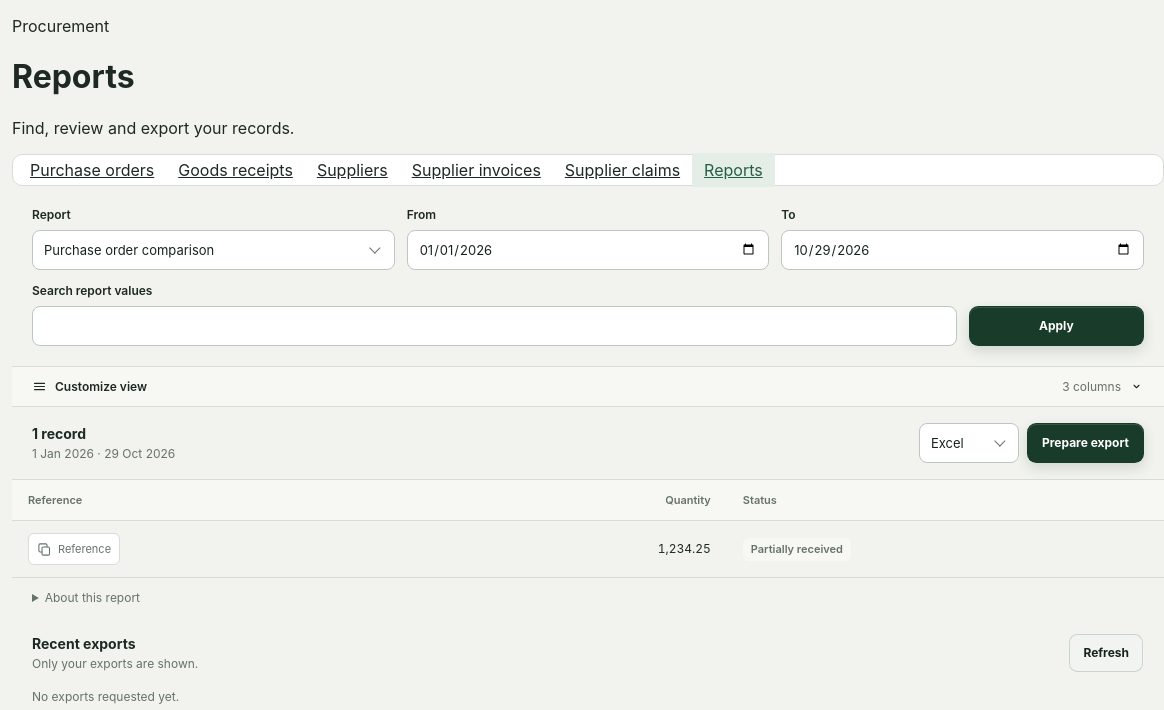
it: ERP reporting workspace › keeps UUIDs compact, copies their full value and offers a fallback on failure
The width and height of the screenshot is (1164, 710).
Expected: the text "98765432-1234-4567-89ab-123456789abc" is not shown
Expected: the text "1,234.25" is shown, [658, 541, 711, 556]
What coordinates should you click on to do the following:
click the button with aria-label "Copy reference"
I would click on:
 (74, 549)
Its box is [28, 533, 120, 565].
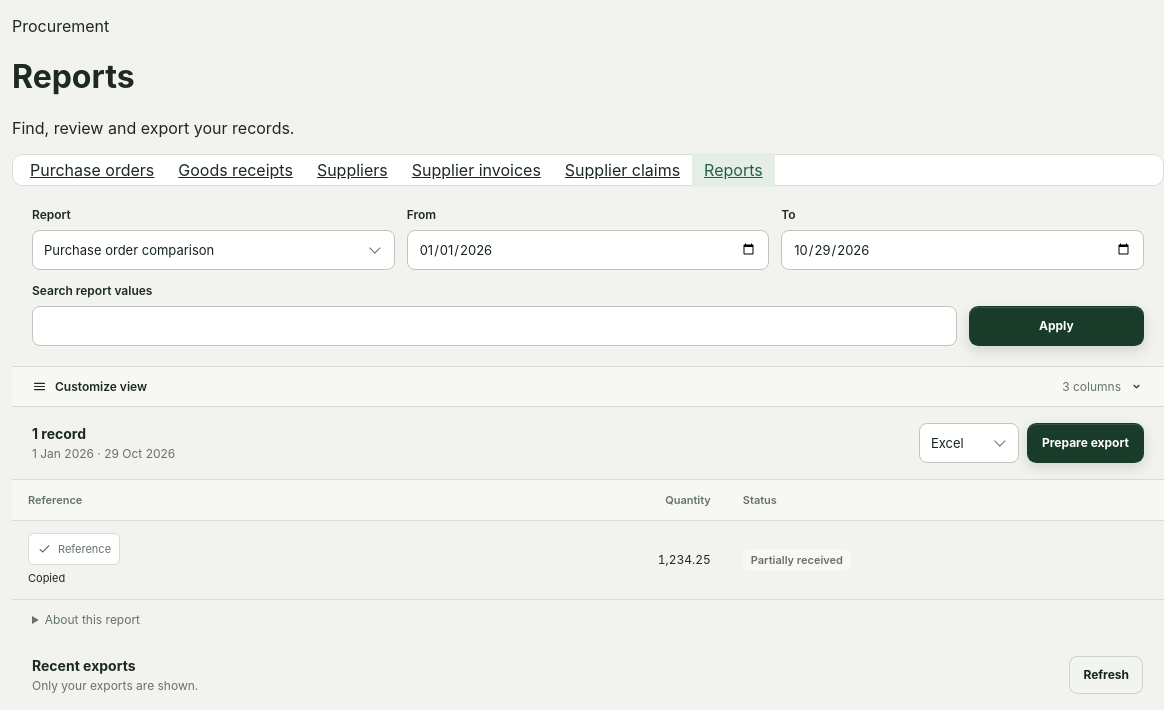
Expected: the text "Copied" is shown, [28, 571, 65, 585]
What coordinates should you click on to do the following:
click the button with aria-label "Copy reference"
I would click on:
 (74, 549)
Its box is [28, 533, 120, 565].
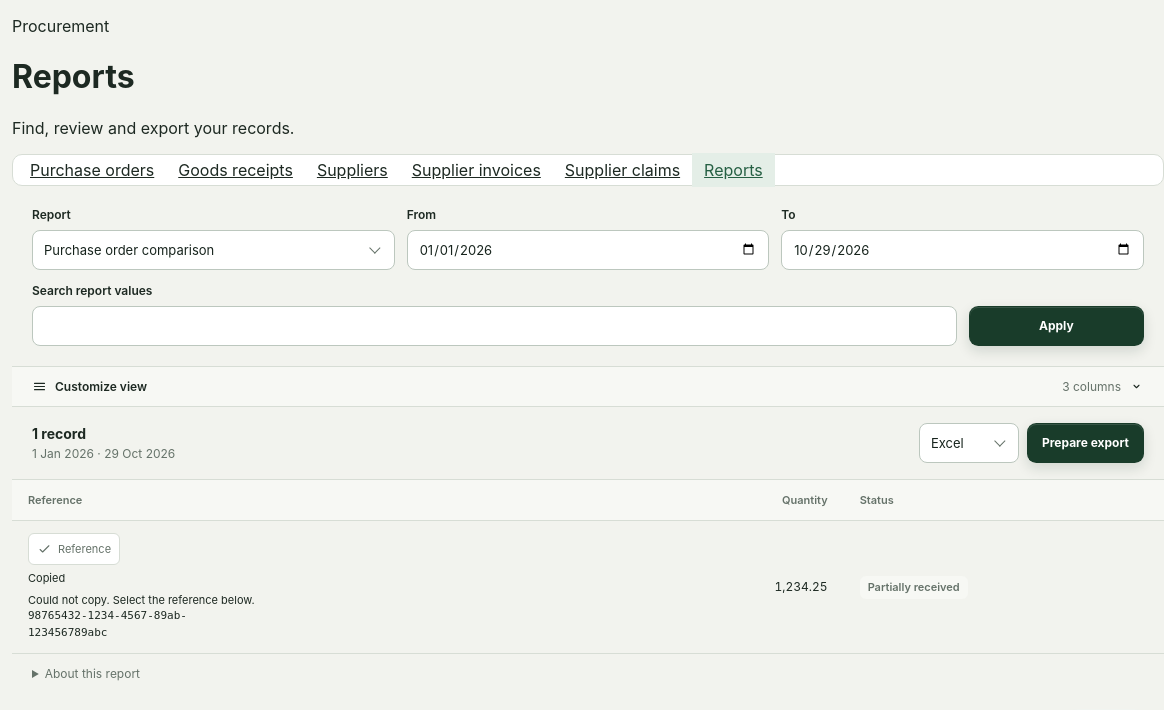
Expected: the text "Could not copy. Select the reference below." is shown, [28, 593, 255, 607]
Expected: the text "98765432-1234-4567-89ab-123456789abc" is shown, [28, 609, 187, 639]
